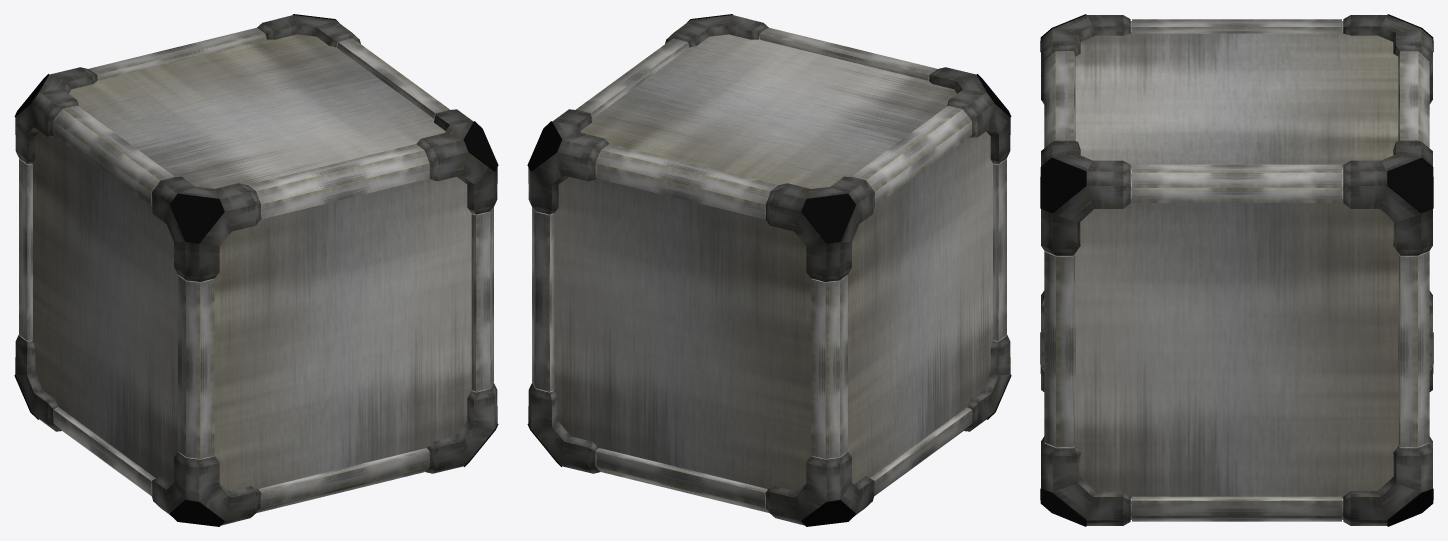
The model's file is container.fbx.
The picture shows the model from 3 angles, left to right: view 1: azimuth 30°, elevation 25°; view 2: azimuth 150°, elevation 25°; view 3: azimuth 270°, elevation 25°; orthographic projection. The views are drawn at different scales.
Visible parts, largest first — view 1: container; view 2: container; view 3: container.
Part boxes in pixels (left/top/right/bottom): container: left=14, top=14, right=498, bottom=526; container: left=527, top=14, right=1011, bottom=526; container: left=1040, top=14, right=1433, bottom=526.
Size of the model in its own units: 116 by 116 by 116.
